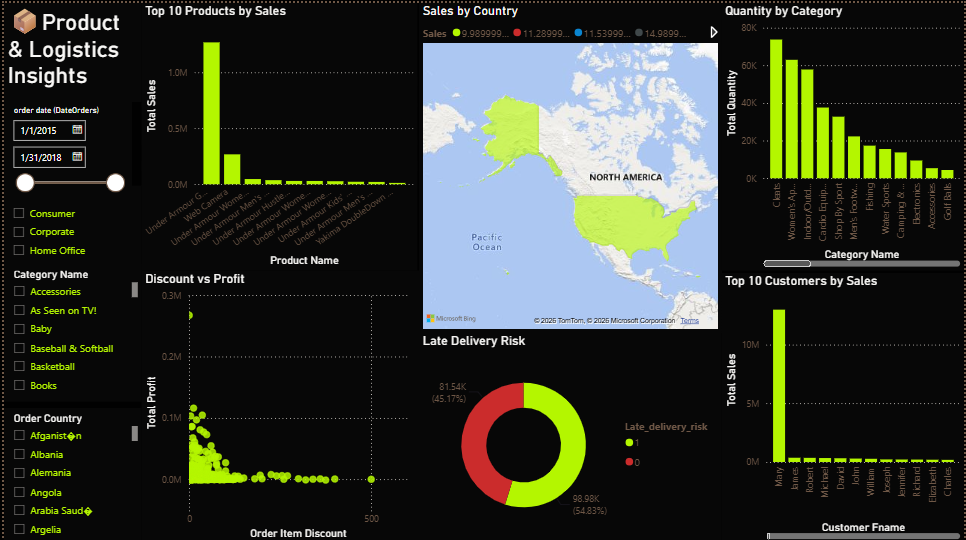

What the dashboard file says about the page in this screenshot:
{"tool":"powerbi","page":{"name":"Product & logistics insights","canvas":[1280,720],"ordinal":1},"visuals":[{"type":"clusteredColumnChart","title":"Top 10 Products by Sales","fields":{"Category":["Supply_Chain_Data.Product Name"],"Y":["Table.Total Sales"]},"box":[183.3,0,368.3,356.7],"z":0},{"type":"filledMap","title":"Sales by Country","fields":{"Y":["Min(Supply_Chain_Data.Customer Country)"],"Category":["Supply_Chain_Data.Customer Country"],"Series":["Supply_Chain_Data.Sales"],"X":["Min(Supply_Chain_Data.Customer Country)"]},"box":[553.3,0,403.3,440],"z":1},{"type":"clusteredColumnChart","title":"Quantity by Category","fields":{"Category":["Supply_Chain_Data.Category Name"],"Y":["Table.Total Quantity"]},"box":[956.7,0,323.3,356.7],"z":2},{"type":"scatterChart","title":"Discount vs Profit","fields":{"Y":["Table.Total Profit"],"X":["Supply_Chain_Data.Order Item Discount"]},"box":[183.3,356.7,370,363.3],"z":3},{"type":"donutChart","title":"Late Delivery Risk","fields":{"Category":["Supply_Chain_Data.Late_delivery_risk"],"Y":["CountNonNull(Supply_Chain_Data.Order Id)"]},"box":[553.3,440,403.3,280],"z":4},{"type":"columnChart","title":"Top 10 Customers by Sales","fields":{"Category":["Supply_Chain_Data.Customer Fname"],"Y":["Table.Total Sales"]},"box":[956.7,360,323.3,360],"z":5},{"type":"slicer","fields":{"Values":["Supply_Chain_Data.Order Country"]},"box":[0,540,183.3,180],"z":6},{"type":"slicer","fields":{"Values":["Supply_Chain_Data.Category Name"]},"box":[0,348.3,183.3,183.3],"z":7},{"type":"slicer","fields":{"Values":["Supply_Chain_Data.Customer Segment"]},"box":[0,243.3,183.3,113.3],"z":8},{"type":"slicer","fields":{"Values":["Supply_Chain_Data.order date (DateOrders)"]},"box":[0,131.7,170,136.7],"z":9},{"type":"kpi","fields":{"Indicator":["Table.📦Product & Logistics Insights"]},"box":[0,0,183.3,131.7],"z":10}]}

Visuals, with their boxes in screenshot pixels (x1, y1, x2, y2), scaled from the page's 1280x720 canvas onto the 966x540 screenshot:
"Top 10 Products by Sales" clusteredColumnChart: (left=138, top=0, right=416, bottom=268)
"Sales by Country" filledMap: (left=418, top=0, right=722, bottom=330)
"Quantity by Category" clusteredColumnChart: (left=722, top=0, right=965, bottom=268)
"Discount vs Profit" scatterChart: (left=138, top=268, right=418, bottom=539)
"Late Delivery Risk" donutChart: (left=418, top=330, right=722, bottom=539)
"Top 10 Customers by Sales" columnChart: (left=722, top=270, right=965, bottom=539)
slicer - Supply_Chain_Data.Order Country: (left=0, top=405, right=138, bottom=539)
slicer - Supply_Chain_Data.Category Name: (left=0, top=261, right=138, bottom=399)
slicer - Supply_Chain_Data.Customer Segment: (left=0, top=182, right=138, bottom=267)
slicer - Supply_Chain_Data.order date (DateOrders): (left=0, top=99, right=128, bottom=201)
kpi - Table.📦Product & Logistics Insights: (left=0, top=0, right=138, bottom=99)
